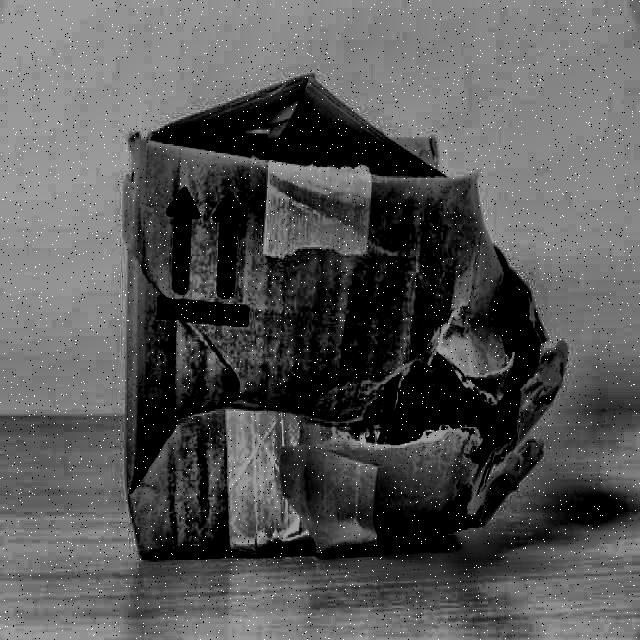box: (106, 59, 575, 561)
hole: (353, 269, 557, 511)
